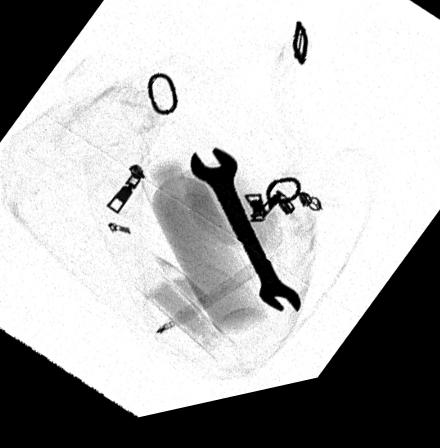Wrench: (189, 155, 303, 328)
